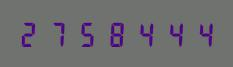eight: (101, 20, 128, 47)
five: (73, 20, 100, 47)
four: (129, 20, 156, 47), (157, 20, 184, 47), (185, 20, 212, 47)
seven: (45, 20, 72, 47)
two: (17, 20, 44, 47)
